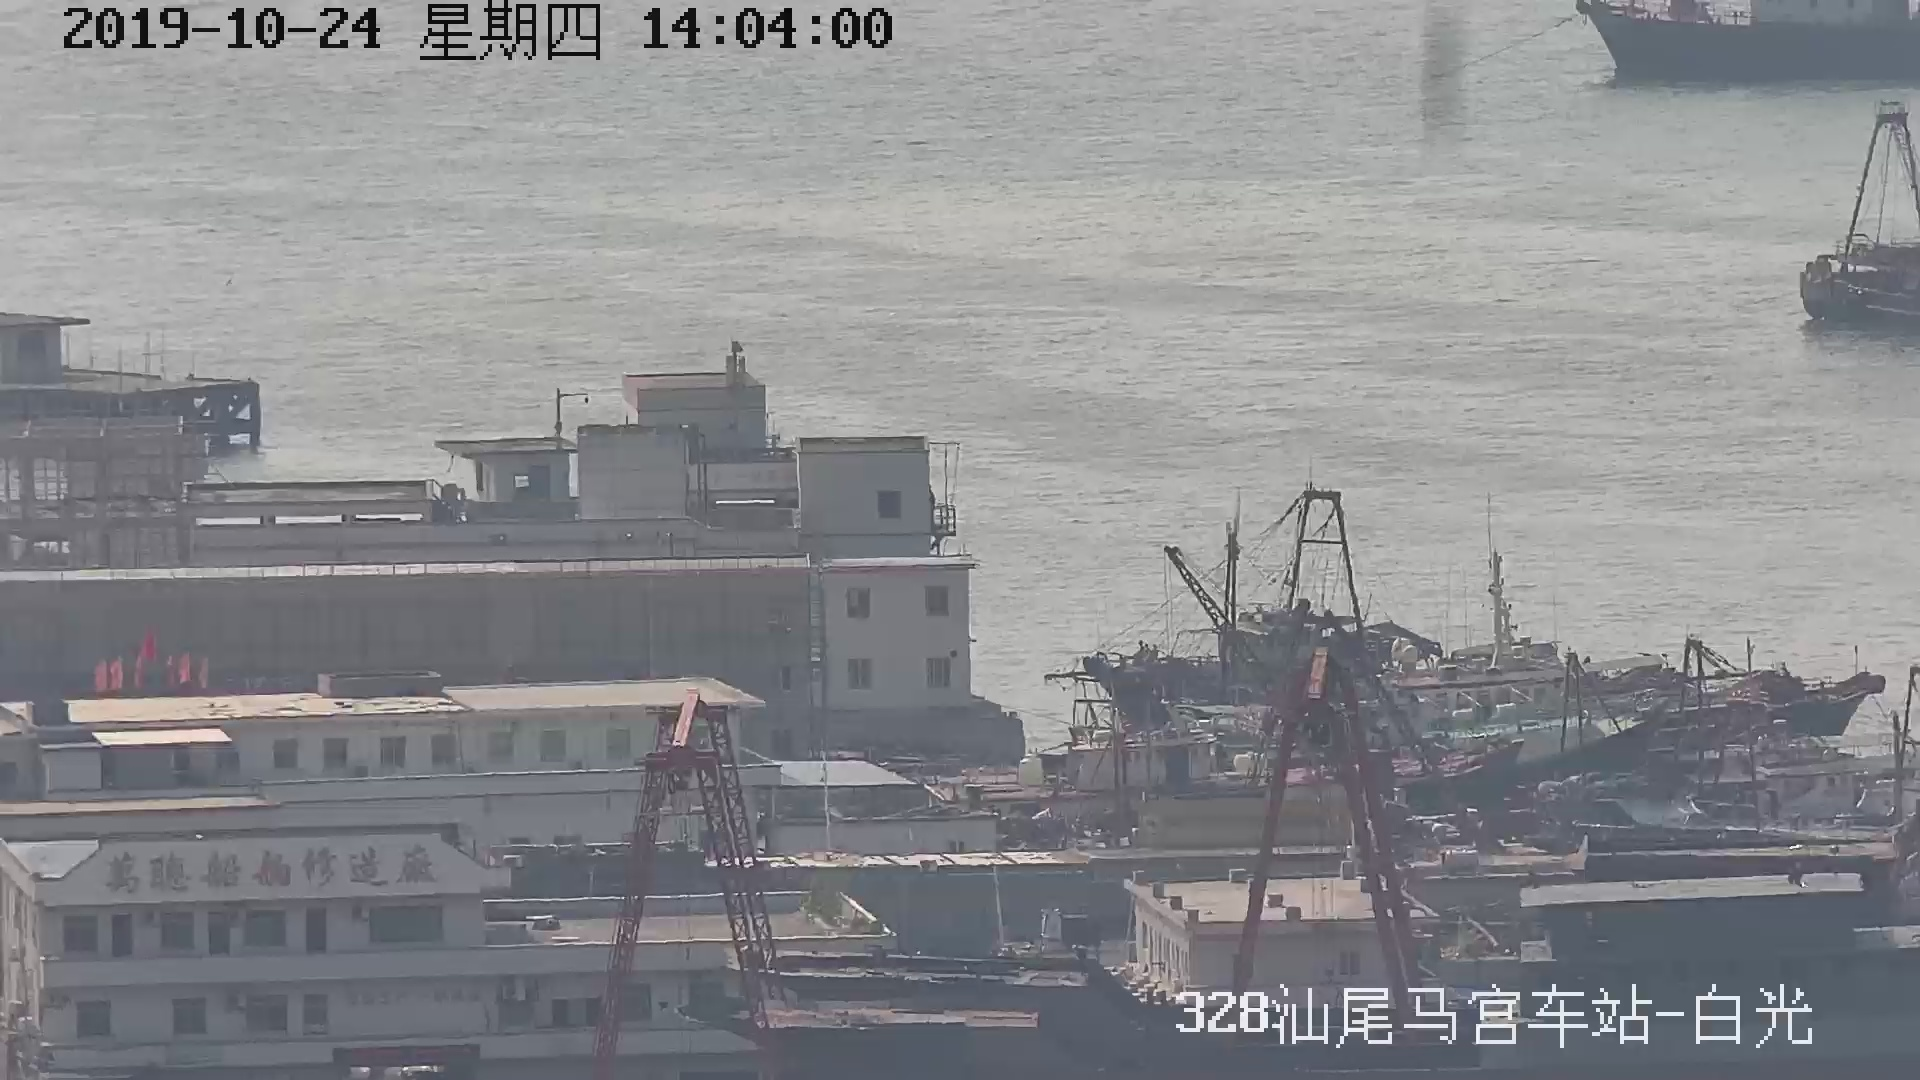ship: (1556, 1, 1920, 88), (1803, 105, 1916, 335)
